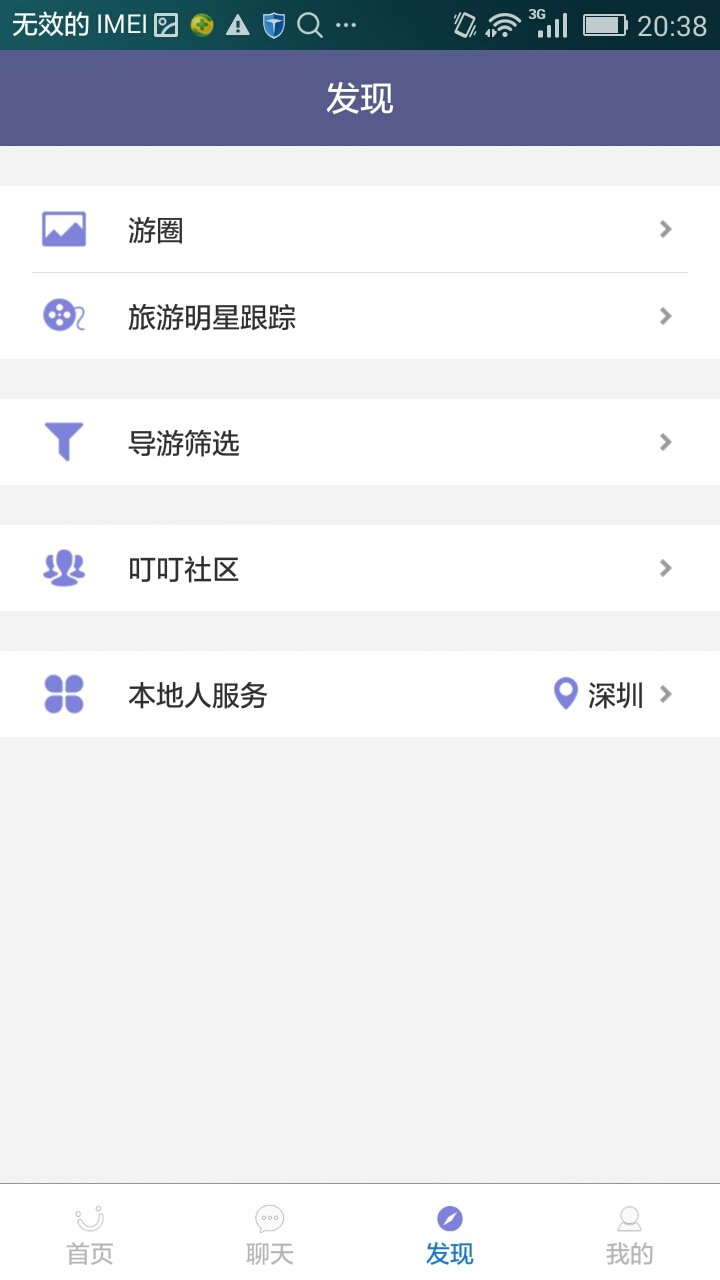nav: (4, 1179, 720, 1279)
